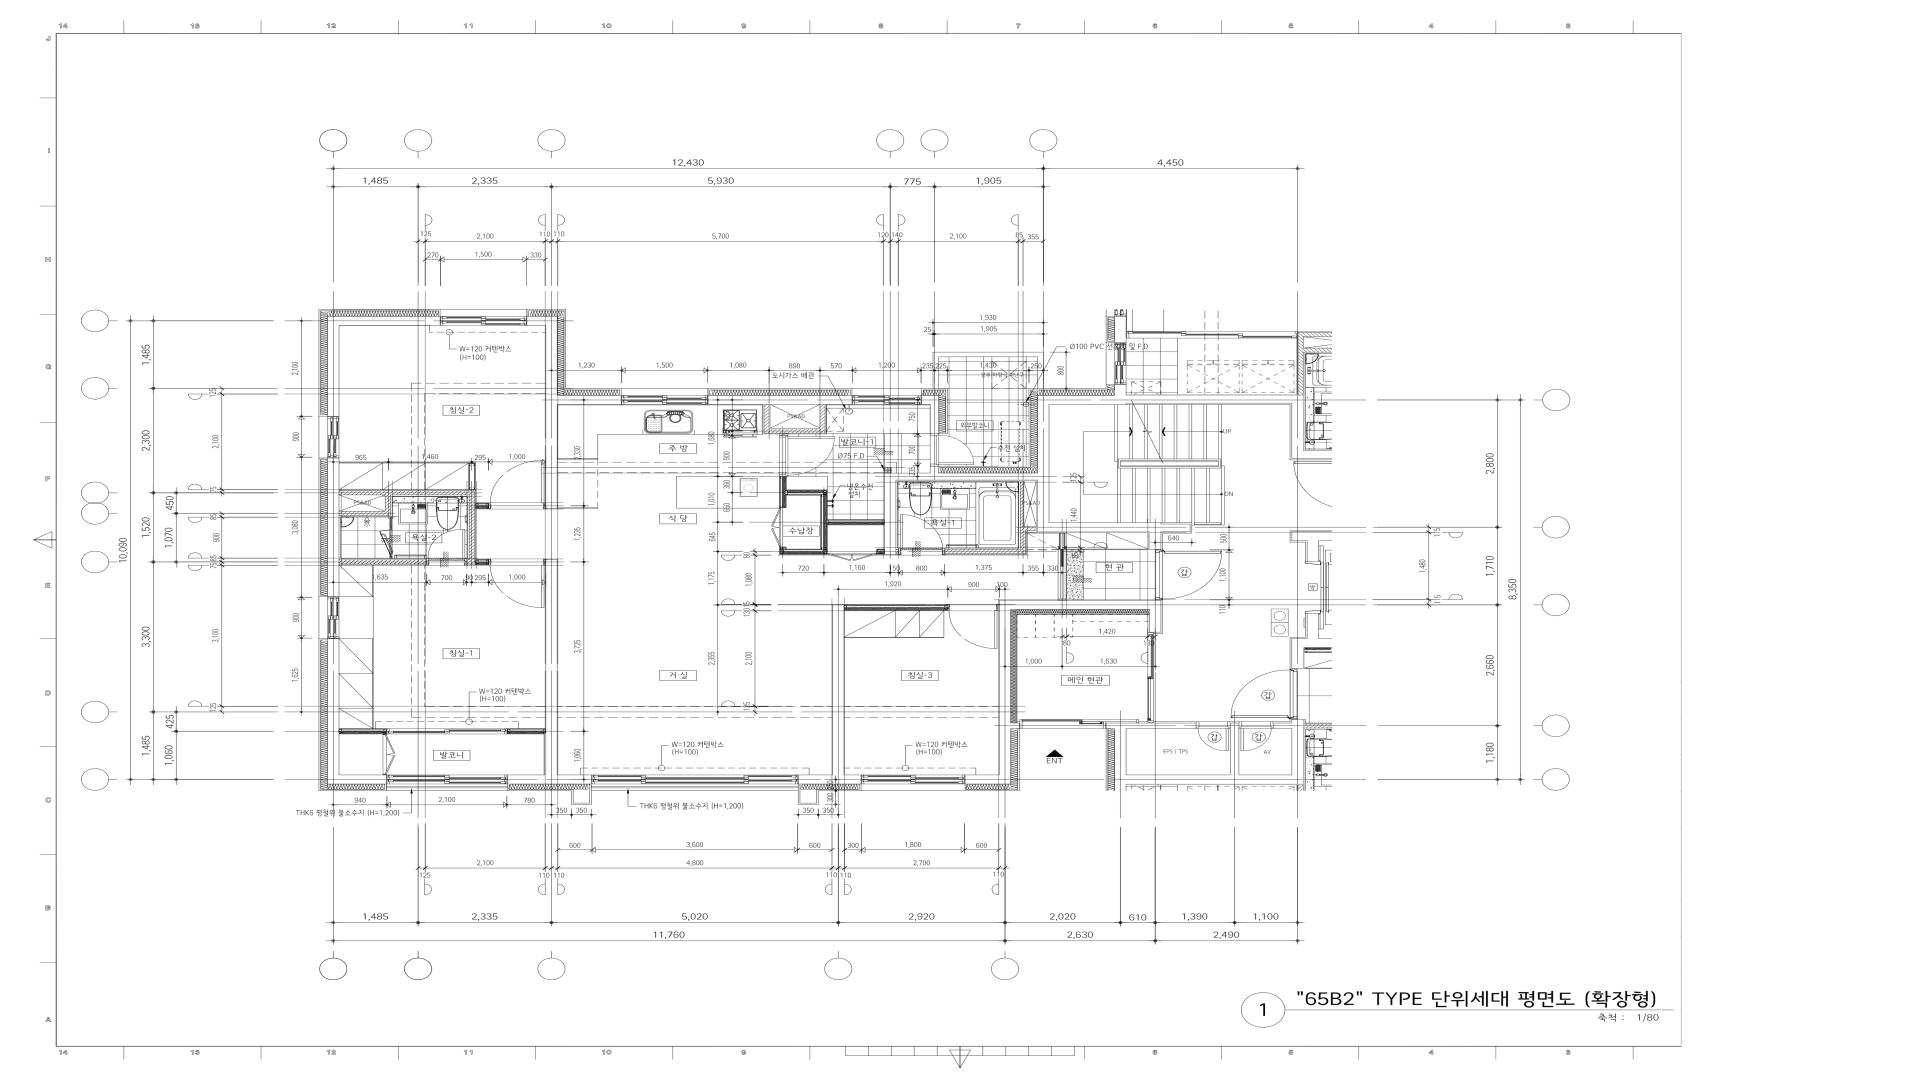door: (1230, 669, 1298, 719), (1154, 550, 1221, 600), (947, 604, 998, 649), (495, 464, 546, 509), (495, 559, 546, 604), (779, 435, 835, 476), (898, 514, 944, 555), (426, 529, 467, 566), (930, 434, 973, 467), (1019, 719, 1139, 729), (1196, 721, 1230, 752), (1240, 721, 1273, 752), (1147, 633, 1155, 723), (1058, 531, 1065, 600), (771, 506, 783, 549), (382, 735, 394, 775), (827, 551, 877, 560), (380, 530, 392, 554)
wall: (327, 316, 440, 417), (327, 638, 386, 785), (1050, 384, 1292, 405), (932, 352, 1043, 389), (545, 559, 558, 774), (1292, 396, 1332, 458), (1292, 613, 1332, 669), (546, 326, 558, 509), (832, 605, 844, 774), (998, 609, 1010, 775), (1126, 774, 1303, 785), (327, 458, 339, 596), (930, 465, 1038, 480), (1038, 396, 1050, 522), (1038, 522, 1191, 531), (998, 600, 1150, 609), (708, 396, 852, 405), (1292, 531, 1332, 562), (1021, 481, 1038, 549), (885, 480, 895, 554), (1114, 728, 1126, 791), (790, 774, 861, 785), (508, 775, 583, 785), (922, 396, 939, 434), (1105, 723, 1196, 729), (1292, 719, 1303, 774), (558, 396, 621, 405), (467, 495, 475, 564), (339, 491, 475, 495), (1230, 723, 1240, 775), (339, 559, 426, 564), (944, 549, 1026, 554), (965, 775, 1010, 785), (844, 604, 947, 608), (1150, 600, 1162, 633), (1114, 315, 1126, 343), (885, 473, 930, 480), (526, 316, 558, 326), (769, 429, 825, 433), (1150, 531, 1160, 550), (339, 512, 385, 516), (827, 520, 885, 522), (820, 496, 823, 551), (764, 405, 769, 433), (1273, 723, 1292, 729), (339, 728, 386, 731), (779, 476, 783, 508), (820, 405, 825, 429), (385, 495, 390, 516), (506, 728, 545, 731), (785, 493, 823, 496), (783, 549, 820, 551), (1010, 723, 1019, 729), (475, 559, 495, 562), (476, 502, 495, 505), (389, 517, 392, 530), (876, 549, 885, 551), (779, 433, 787, 435), (895, 549, 898, 554), (390, 554, 393, 559)
window: (583, 774, 790, 785), (386, 775, 508, 785), (861, 774, 965, 785), (621, 396, 708, 405), (440, 316, 526, 326), (386, 728, 506, 735), (852, 396, 922, 405), (327, 596, 339, 638), (327, 417, 339, 458), (1114, 343, 1126, 384)
